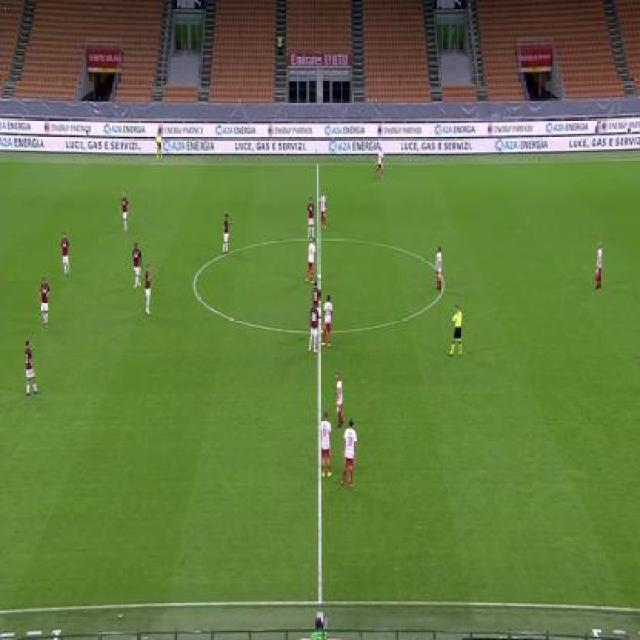ball: (317, 272, 322, 280)
player: (340, 419, 359, 488), (318, 409, 334, 483), (23, 338, 40, 397), (448, 302, 464, 358), (307, 301, 321, 354), (38, 275, 51, 331), (321, 293, 334, 346), (334, 371, 345, 428), (59, 230, 72, 278), (305, 235, 318, 283), (130, 240, 143, 288), (220, 211, 233, 256), (143, 262, 152, 316), (594, 237, 603, 288), (373, 146, 386, 180), (434, 241, 442, 292), (120, 189, 129, 234), (307, 195, 316, 234), (319, 188, 327, 230), (312, 281, 321, 315), (155, 130, 163, 163)
